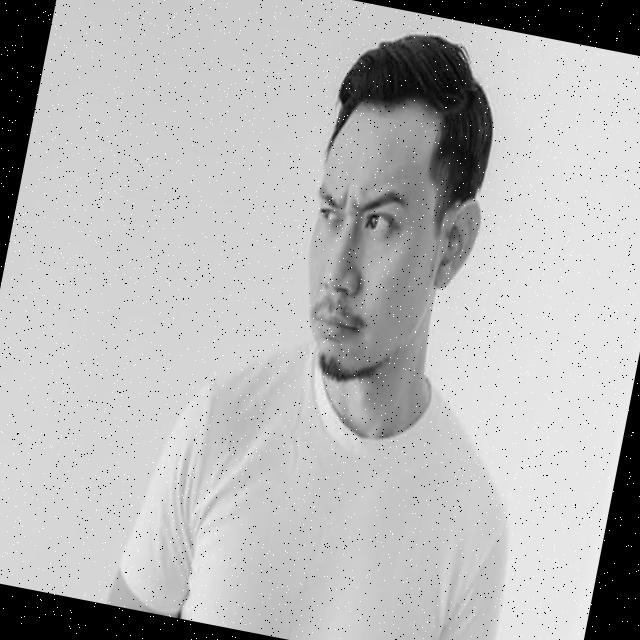Angry: (283, 102, 464, 394)
